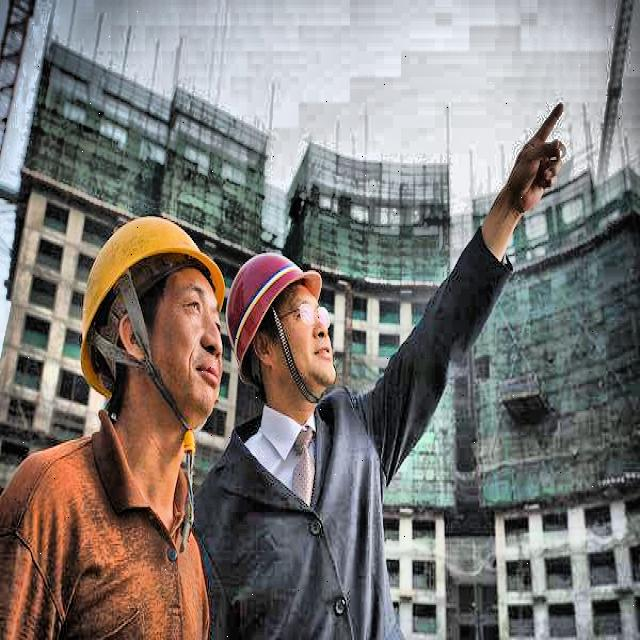helmet: (85, 188, 235, 446), (222, 229, 337, 416)
